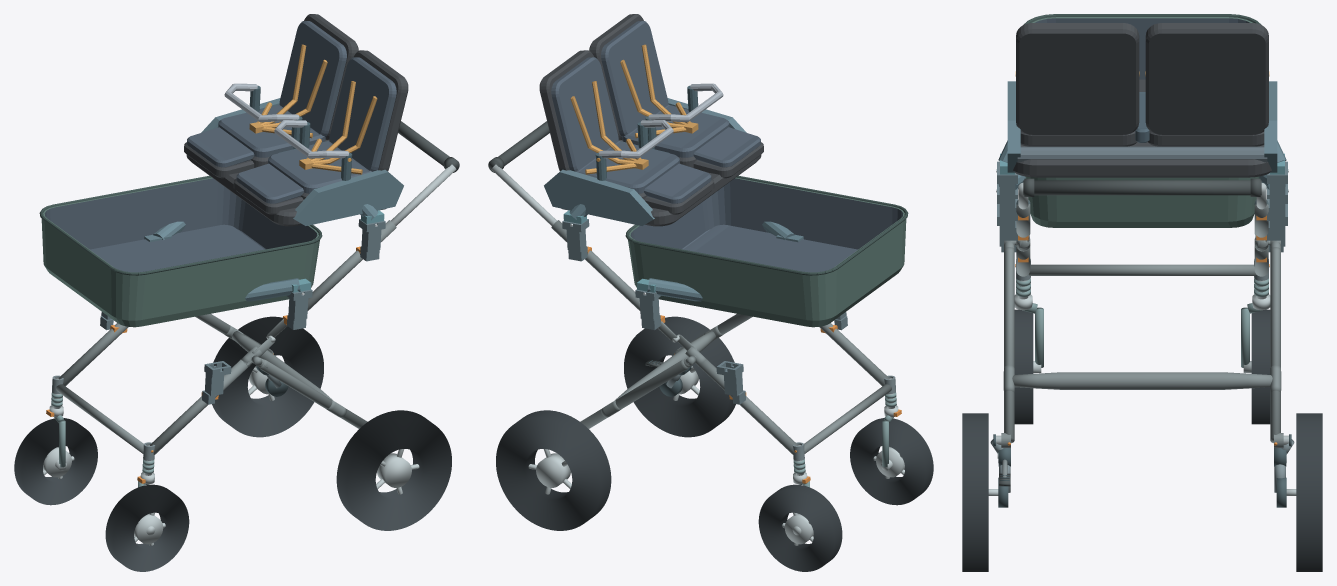
The model's file is D27_w650_state1_wheel_L.glb.
The picture shows the model from 3 angles, left to right: view 1: azimuth 30°, elevation 25°; view 2: azimuth 150°, elevation 25°; view 3: azimuth 270°, elevation 25°; orthographic projection. The views are drawn at different scales.
Parts seen in each view (by area): view 1: D27_Upper, D27_Lower, RL_tire.008, RR_tire.008, FL_tire.008, FR_tire.008, D27_Lower_Mount_M, V46_rear_leg_-1.009, main_lower_-1.009, front_fixed_round_tube.008, main_upper_-1.009, main_lower_1.009 (+8 smaller); view 2: D27_Upper, D27_Lower, RR_tire.008, RL_tire.008, FR_tire.008, FL_tire.008, D27_Lower_Mount_M, V46_rear_leg_1.009, main_lower_1.009, front_fixed_round_tube.008, main_upper_1.009, main_lower_-1.009 (+8 smaller); view 3: D27_Upper, D27_Lower, V46_rearbar.009, RL_tire.008, RR_tire.008, round_handle.008, front_fixed_round_tube.008, FL_tire.008, FR_tire.008, V46_rear_leg_1.009, V46_rear_leg_-1.009, Universal_Cabin_Receiver_H_1 (+6 smaller).
Part boxes in pixels (x1,y1,x2,y2): D27_Upper: [184, 14, 408, 226]; D27_Lower: [39, 175, 322, 327]; RL_tire.008: [336, 410, 451, 530]; RR_tire.008: [212, 316, 323, 437]; FL_tire.008: [105, 484, 189, 571]; FR_tire.008: [14, 418, 97, 505]; D27_Lower_Mount_M: [144, 221, 311, 301]; V46_rear_leg_-1.009: [259, 359, 367, 428]; main_lower_-1.009: [150, 359, 251, 454]; front_fixed_round_tube.008: [56, 384, 143, 453]; main_upper_-1.009: [307, 220, 396, 310]; main_lower_1.009: [58, 323, 128, 386]; D27_Upper: [539, 14, 763, 226]; D27_Lower: [625, 175, 908, 327]; RR_tire.008: [496, 410, 611, 530]; RL_tire.008: [624, 316, 735, 437]; FR_tire.008: [758, 484, 842, 571]; FL_tire.008: [850, 418, 933, 505]; D27_Lower_Mount_M: [636, 221, 803, 301]; V46_rear_leg_1.009: [580, 359, 688, 428]; main_lower_1.009: [696, 359, 797, 454]; front_fixed_round_tube.008: [804, 384, 891, 453]; main_upper_1.009: [551, 220, 640, 310]; main_lower_-1.009: [819, 323, 889, 386]; D27_Upper: [1007, 23, 1277, 177]; D27_Lower: [1023, 14, 1261, 227]; V46_rearbar.009: [1012, 372, 1272, 389]; RL_tire.008: [962, 413, 988, 571]; RR_tire.008: [1296, 413, 1322, 571]; round_handle.008: [1023, 180, 1261, 195]; front_fixed_round_tube.008: [1028, 264, 1256, 275]; FL_tire.008: [1014, 309, 1033, 424]; FR_tire.008: [1251, 309, 1270, 424]; V46_rear_leg_1.009: [1270, 247, 1280, 443]; V46_rear_leg_-1.009: [1004, 247, 1014, 443]; Universal_Cabin_Receiver_H_1: [1267, 161, 1287, 220].
Size of the model in its own units: 1.2 by 1.39 by 0.8171.
